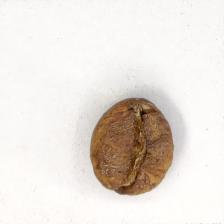NG: (94, 99, 164, 191)
